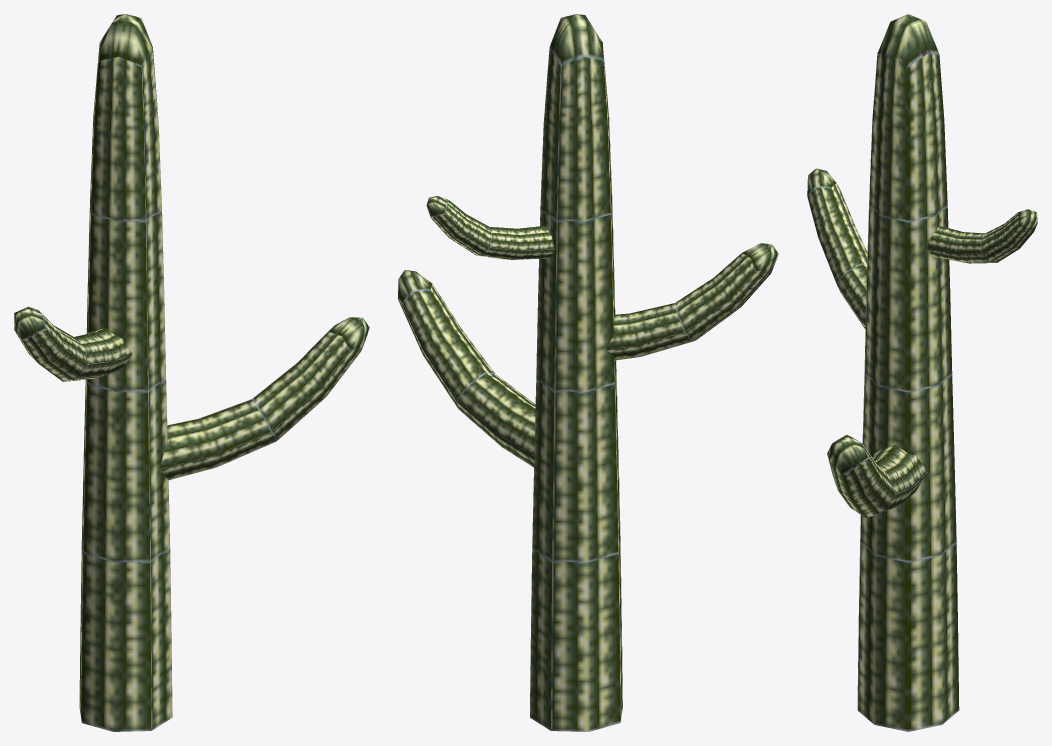
The model's file is cactus_Large_hiPoly.fbx.
3 renders of one model, left to right at view 1: azimuth 30°, elevation 25°; view 2: azimuth 150°, elevation 25°; view 3: azimuth 270°, elevation 25°, orthographic.
Parts seen in each view (by area): view 1: cactus_Large_hiPoly; view 2: cactus_Large_hiPoly; view 3: cactus_Large_hiPoly.
Boxes of the visible parts, left/top/right/bottom form: cactus_Large_hiPoly: left=14, top=14, right=369, bottom=731; cactus_Large_hiPoly: left=398, top=14, right=778, bottom=731; cactus_Large_hiPoly: left=807, top=14, right=1037, bottom=731.
Size of the model in its own units: 2.27 by 4.14 by 1.24.
